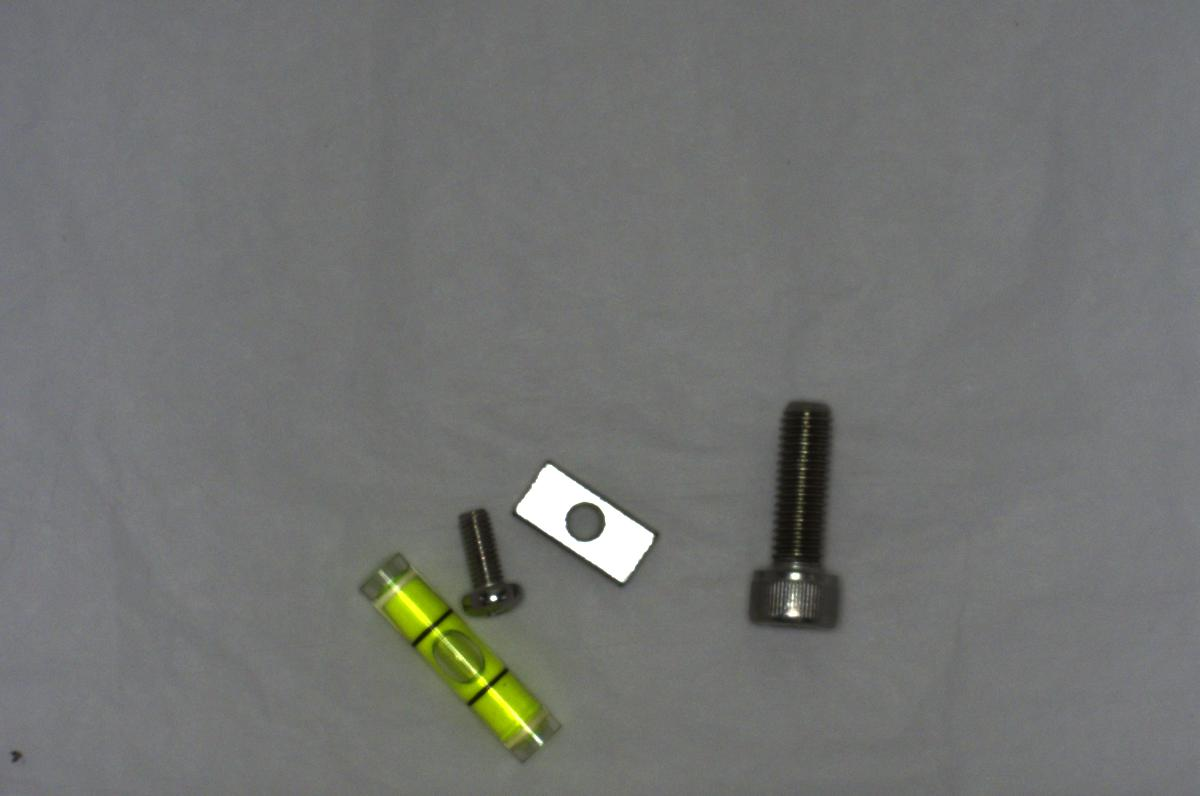Hexagon screw: (740, 398, 857, 643)
Horizontal bubble: (357, 552, 560, 763)
Rectangular nut: (513, 455, 665, 582)
Round head screw: (442, 503, 526, 614)
